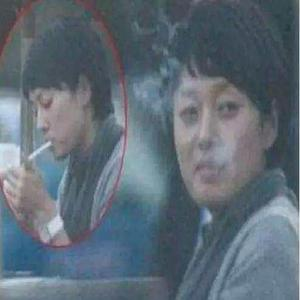cigarette: (24, 144, 55, 158)
